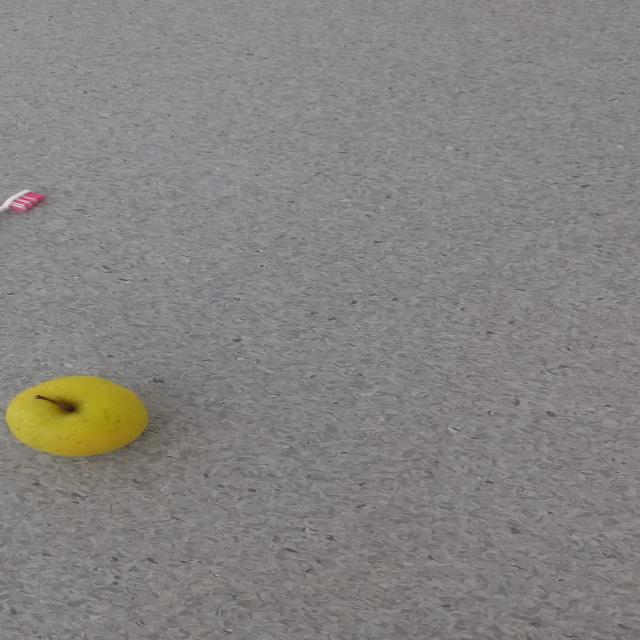apple: (5, 375, 148, 457)
toothbrush: (0, 189, 45, 213)
